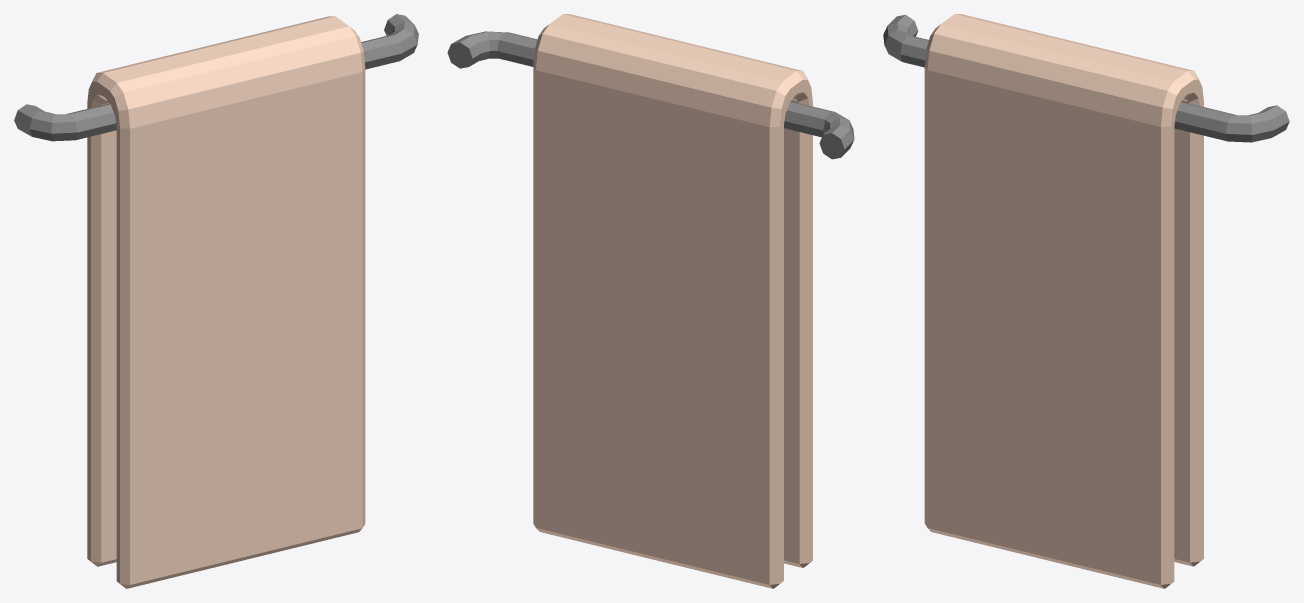
Rendered from BathroomTowel.fbx.
3 renders of one model, left to right at view 1: azimuth 30°, elevation 25°; view 2: azimuth 150°, elevation 25°; view 3: azimuth 330°, elevation 25°, orthographic.
Parts seen in each view (by area): view 1: BathroomTowel; view 2: BathroomTowel; view 3: BathroomTowel.
Boxes of the visible parts, <box> form: BathroomTowel: <box>14,14,418,588</box>; BathroomTowel: <box>447,14,854,588</box>; BathroomTowel: <box>883,14,1289,588</box>.
Bounding box in the file's own units: 0.5382 × 0.6496 × 0.0966.
Materials: 1 (1 with a texture image).
